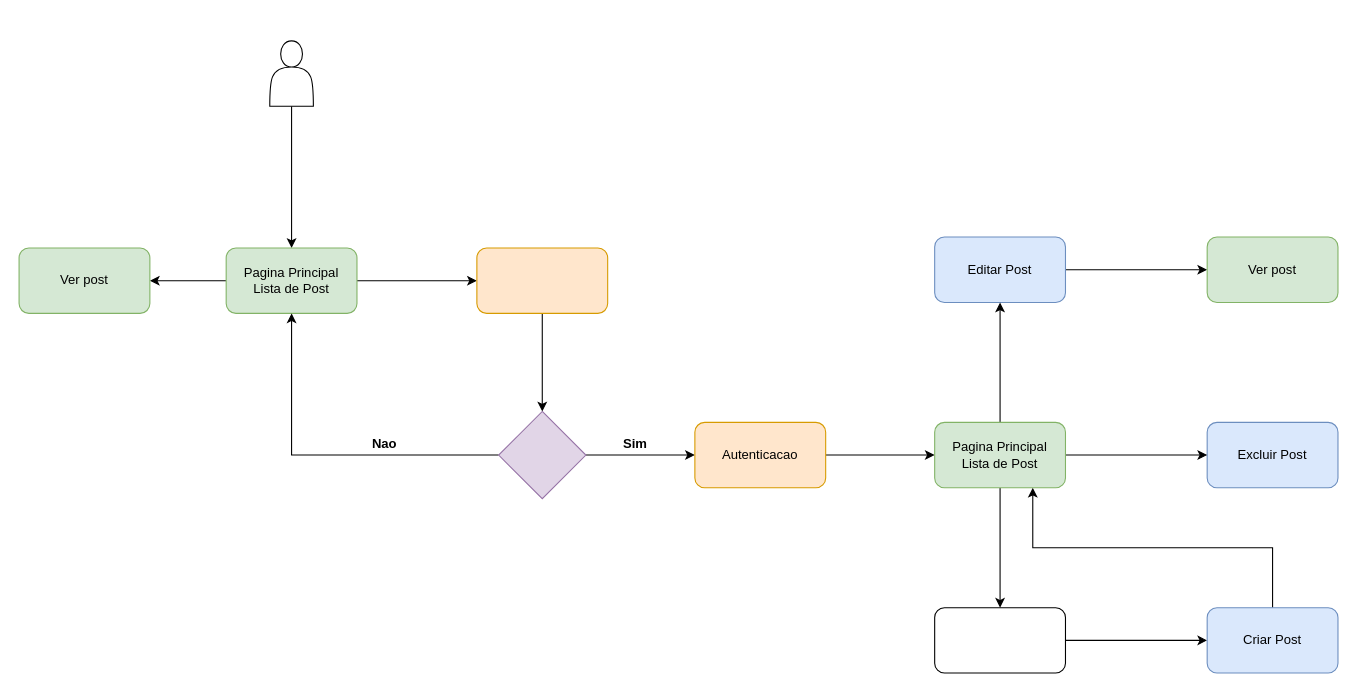
Image size: 1357x692. Some labels were removed from this diagram. Here are the shapes that lost their labels. From the top down, the centre of each, then its label:
point (291, 73): Usuario
point (542, 280): Login
point (542, 454): E Professor?
point (999, 640): Administracao
